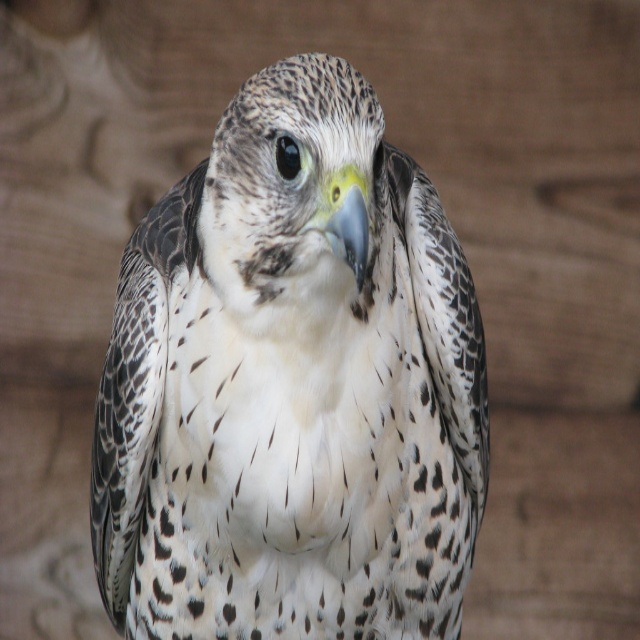Owl: (90, 48, 490, 639)
